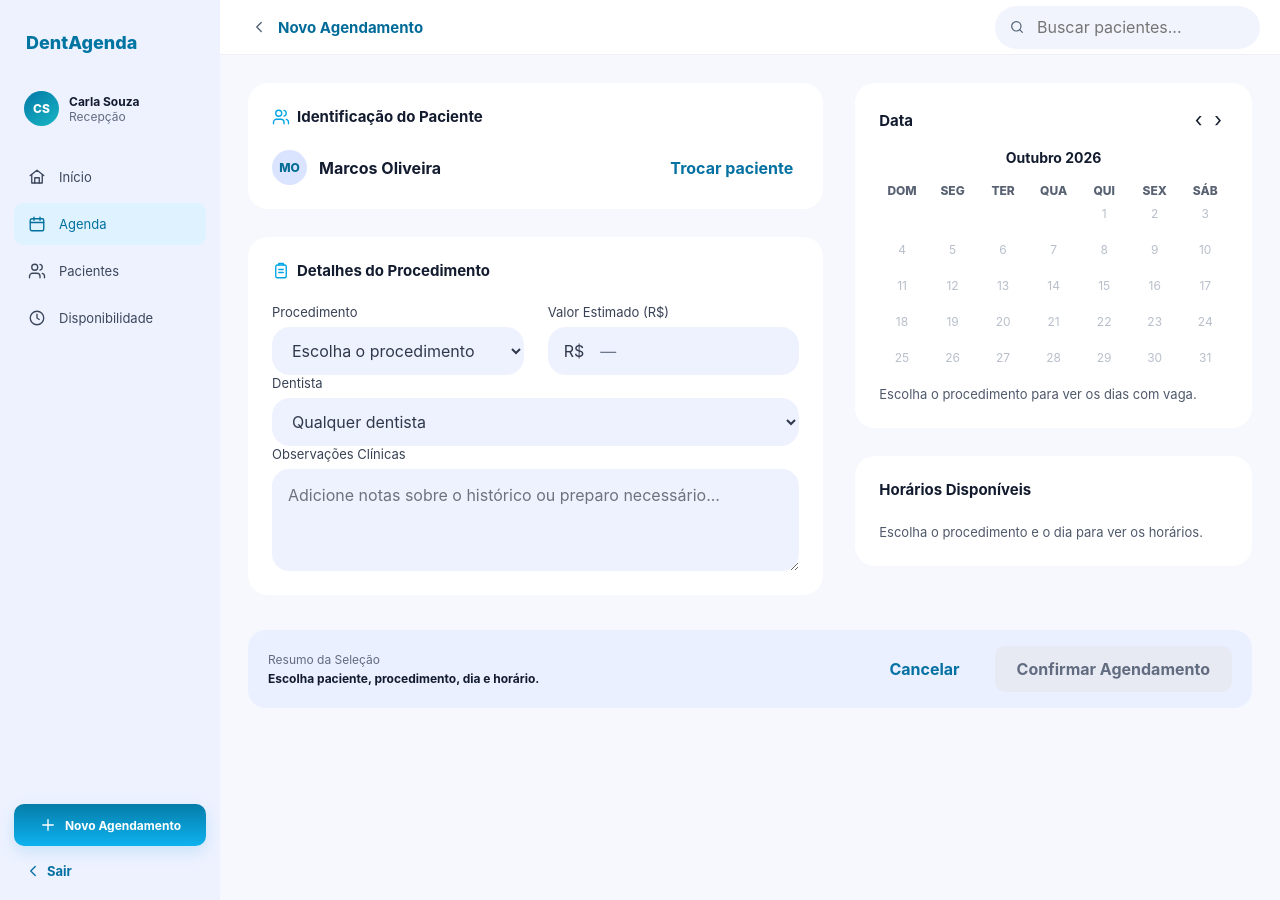
Novo Agendamento da recepção (D33) › marca a consulta do paciente do link e mostra a confirmação
This screenshot has width=1280, height=900.
expect the text "Marcos Oliveira" is shown: met, box [319, 158, 441, 178]
Select "Limpeza (60 min)" in the dropdown labelled "Procedimento". click: (398, 351)
box: [272, 327, 524, 375]
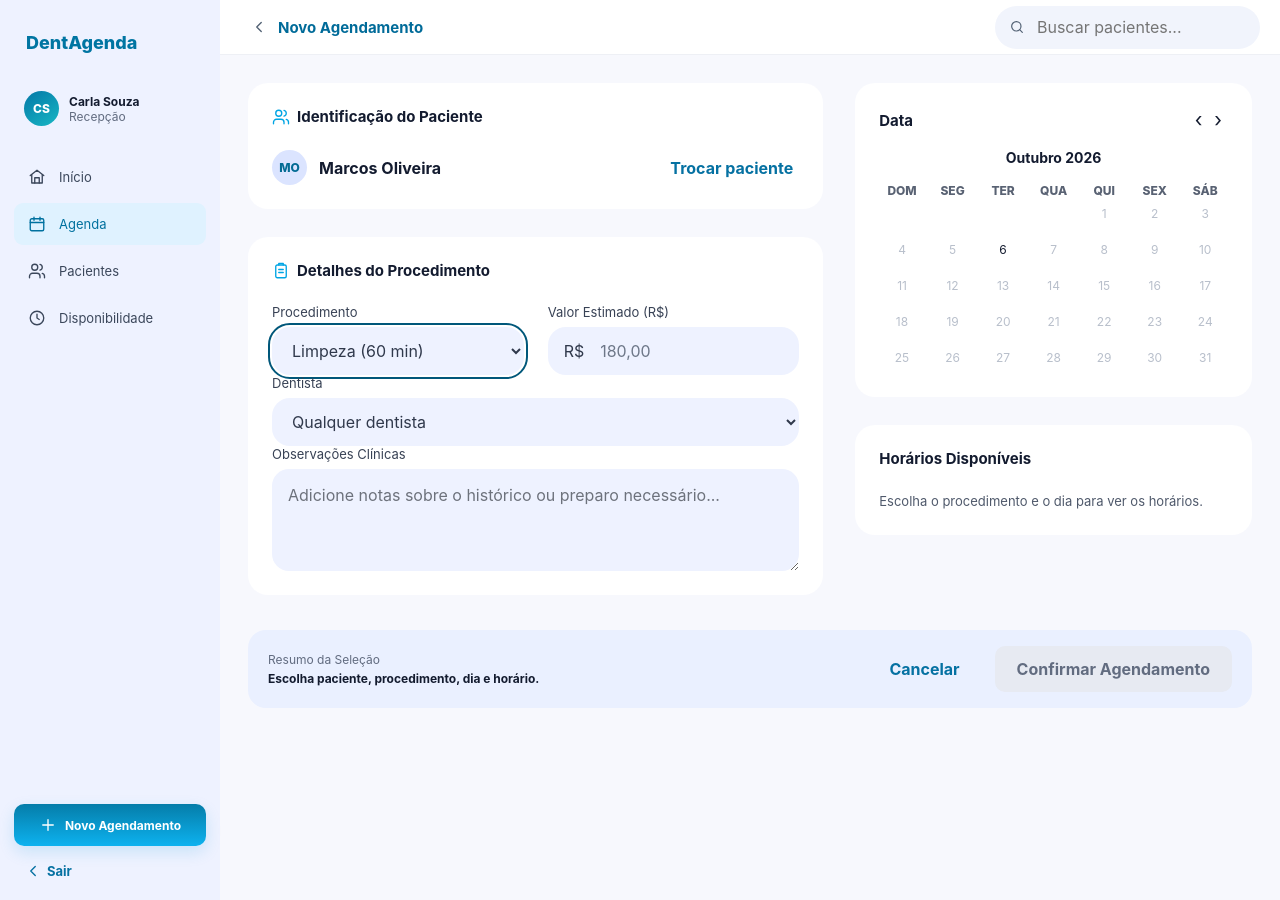
Click the button named "6 de outubro de 2026". click: (1003, 250)
box: [980, 234, 1026, 265]
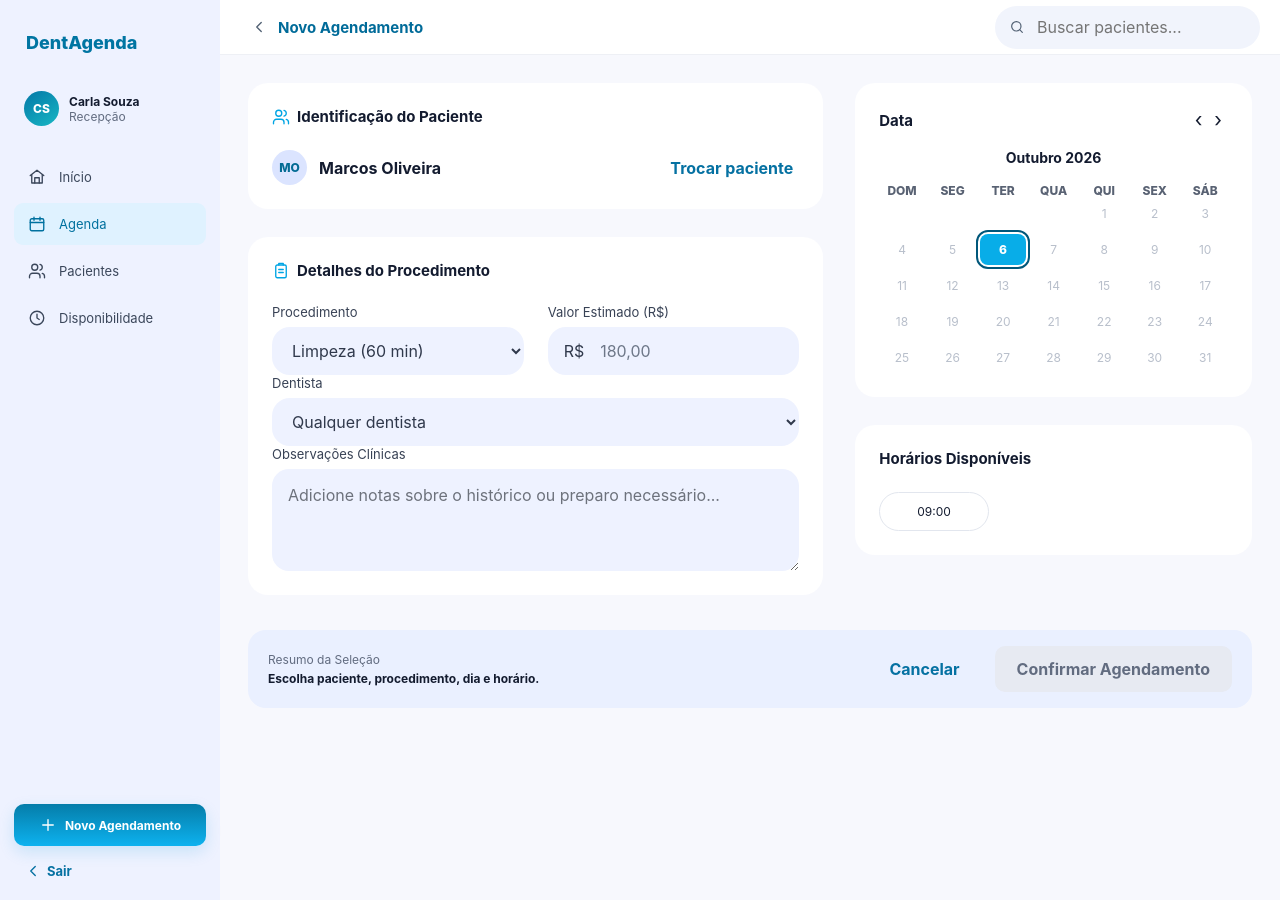
Click the button "09:00". click: (934, 512)
box: [879, 492, 989, 531]
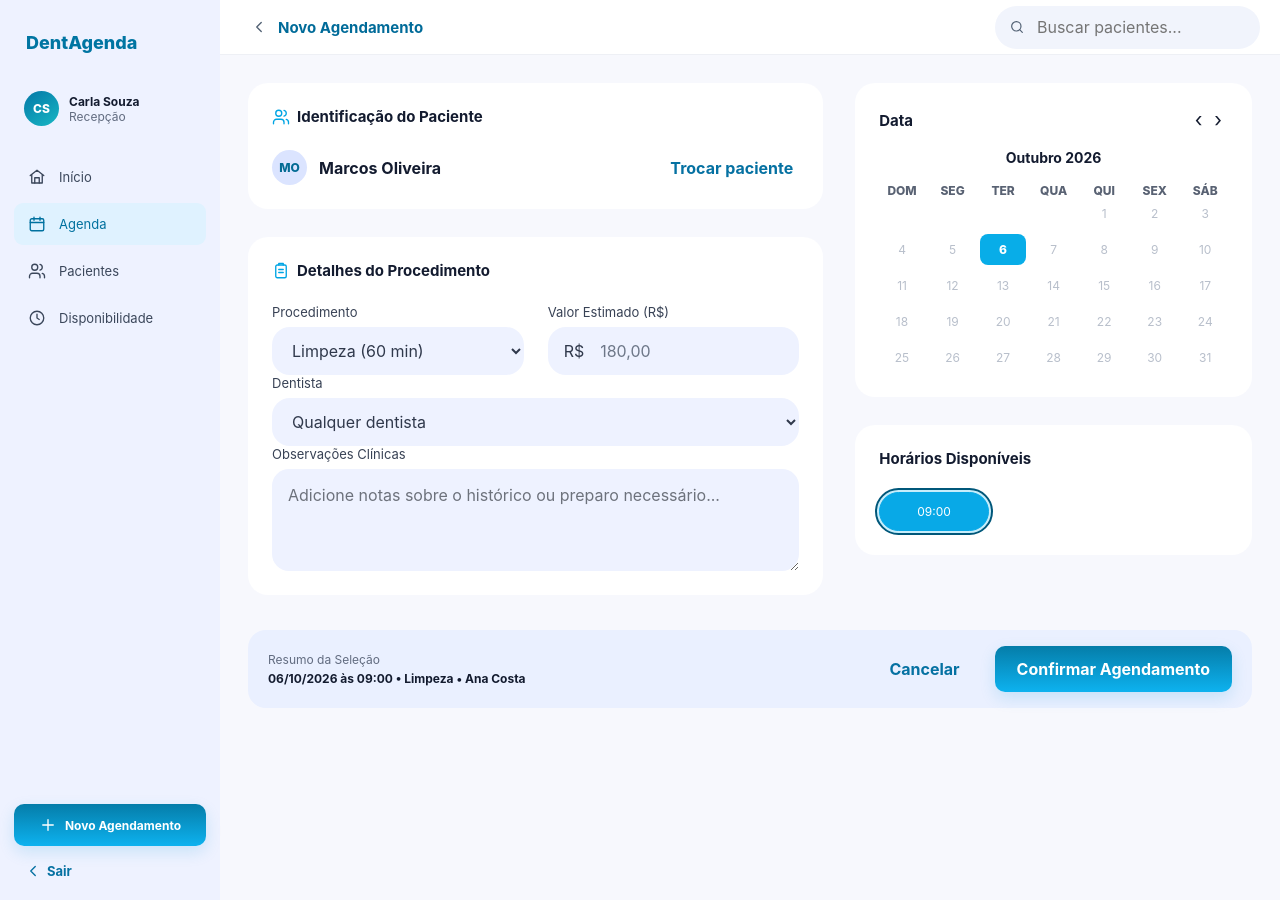
Click the button "Confirmar Agendamento". click: (1113, 669)
box: [995, 646, 1232, 692]
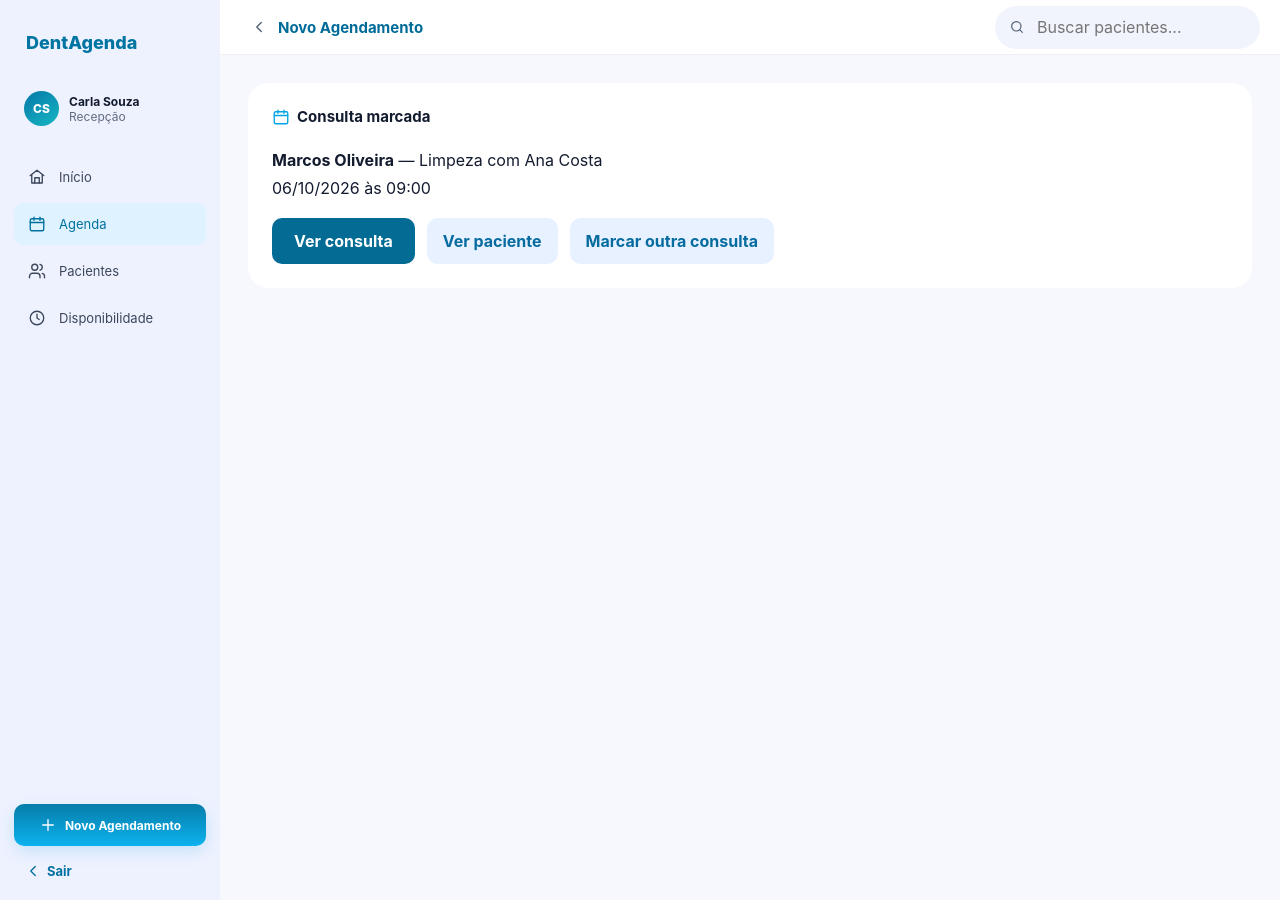
expect the heading "Consulta marcada" is shown: met, box [272, 107, 430, 126]
